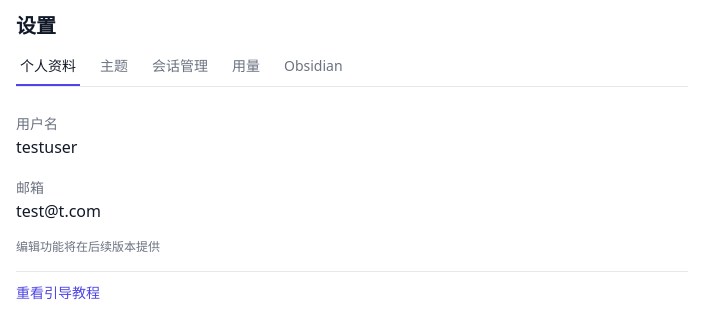
Test: SettingsPage › switches to theme tab
The width and height of the screenshot is (705, 317).
Click the button "主题" at (114, 71), box [96,56,132,86]
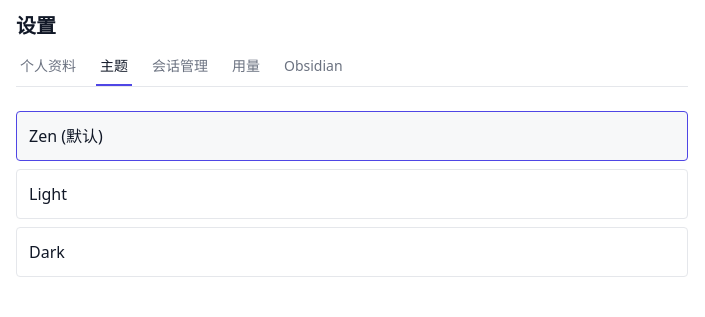
Expected: the button "Zen (默认)" is shown, [16,111,688,161]
